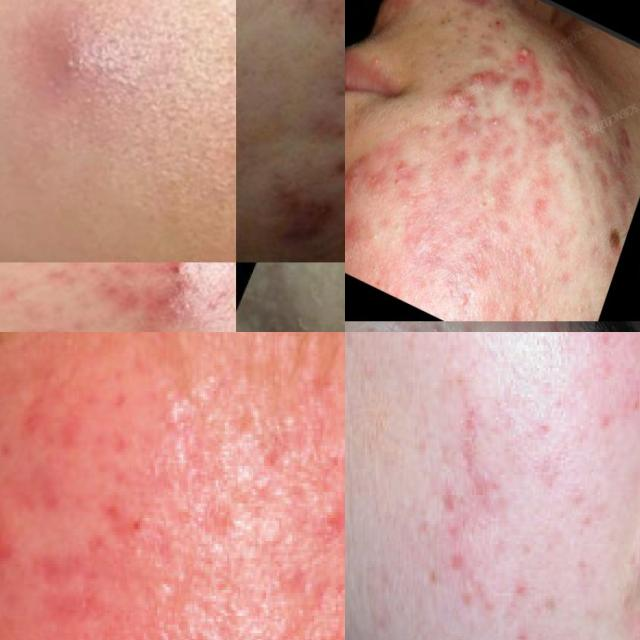acne_scars: (260, 172, 345, 262)
comedone: (569, 284, 599, 321), (514, 285, 542, 318), (434, 3, 457, 34), (449, 23, 474, 50), (442, 58, 467, 85), (363, 48, 387, 74), (364, 220, 385, 248), (429, 104, 450, 128), (430, 41, 449, 66), (474, 24, 491, 44), (451, 321, 475, 332), (432, 65, 448, 81), (399, 321, 421, 332), (422, 321, 444, 332), (445, 44, 458, 60), (489, 52, 502, 68), (498, 35, 511, 50), (494, 0, 507, 13), (485, 18, 496, 33)
keloid: (575, 77, 613, 117), (544, 54, 584, 87)
papule: (4, 2, 130, 123), (146, 262, 198, 290), (387, 149, 415, 179)
pustule: (509, 38, 538, 69), (465, 122, 485, 144), (486, 111, 502, 131)
sebo-crystan-conglo: (345, 134, 376, 209), (442, 84, 484, 120), (466, 59, 501, 98), (198, 262, 236, 280), (510, 73, 533, 99)
